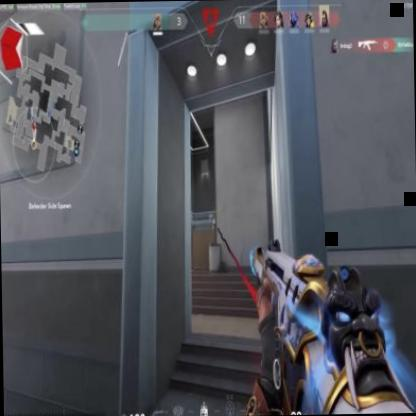enemy: (210, 210, 218, 242)
